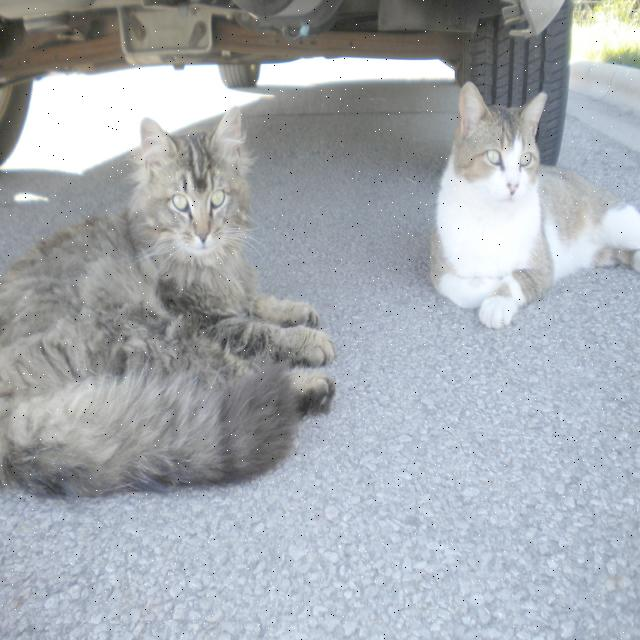cat: (0, 108, 335, 496), (431, 83, 640, 328)
